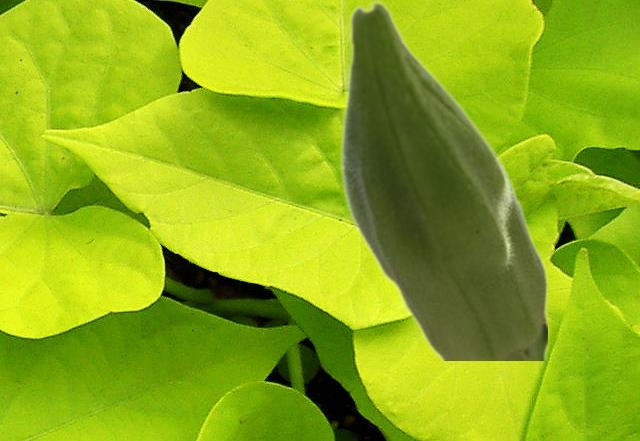okra: (339, 0, 546, 359)
